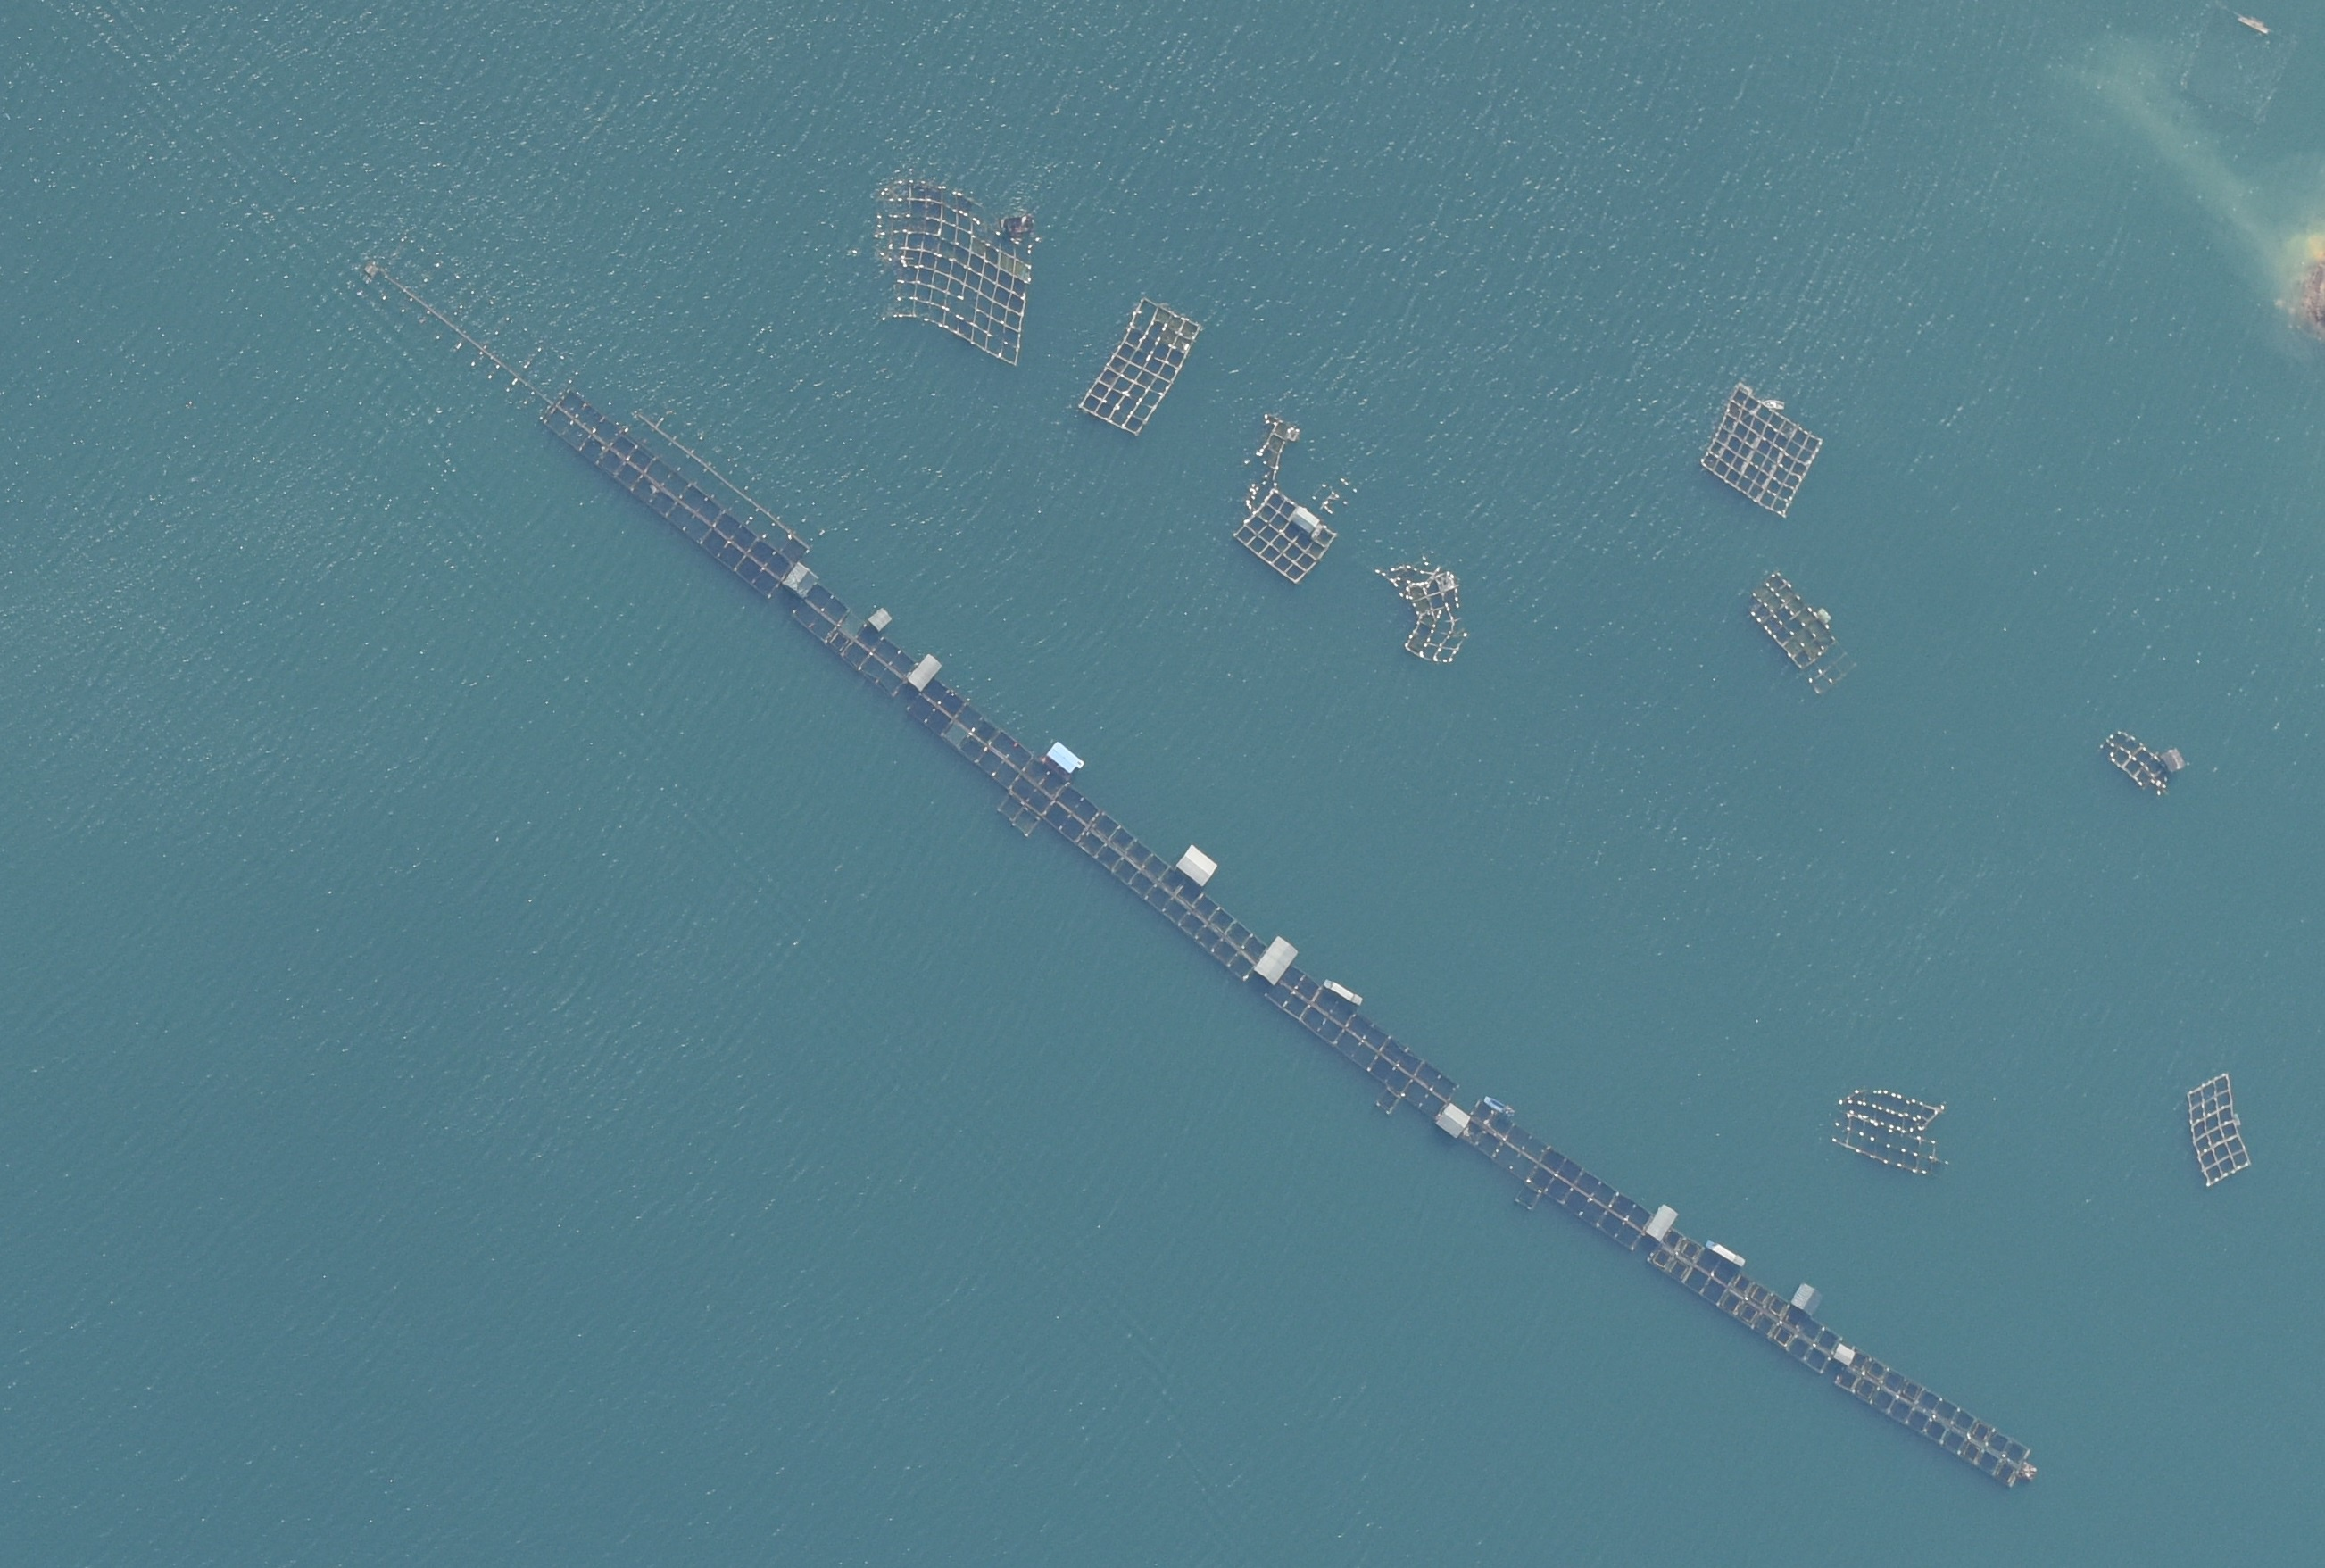cultivation-mesh-cage: (357, 234, 808, 598), (906, 681, 1267, 983), (1650, 1232, 2040, 1487), (866, 173, 1025, 359), (1267, 968, 1459, 1118), (1459, 1109, 1653, 1249), (1232, 413, 1363, 586), (1076, 297, 1200, 434), (1702, 381, 1823, 518), (791, 583, 917, 698), (1748, 567, 1856, 695), (1826, 1083, 1956, 1183), (1373, 553, 1473, 663), (2182, 1073, 2255, 1188), (2099, 726, 2189, 798)
prefabricated-house: (1253, 936, 1300, 985), (1177, 845, 1216, 887), (1644, 1202, 1679, 1242), (906, 654, 941, 691), (1435, 1102, 1470, 1139), (780, 563, 819, 597), (1790, 1281, 1823, 1318), (1046, 742, 1083, 773), (1291, 506, 1321, 534), (868, 605, 894, 632), (2161, 745, 2185, 773), (1833, 1342, 1856, 1367), (1816, 607, 1832, 623)
ship: (1704, 1239, 1748, 1269), (1321, 976, 1365, 1004), (1482, 1094, 1519, 1116), (1760, 399, 1786, 411)
